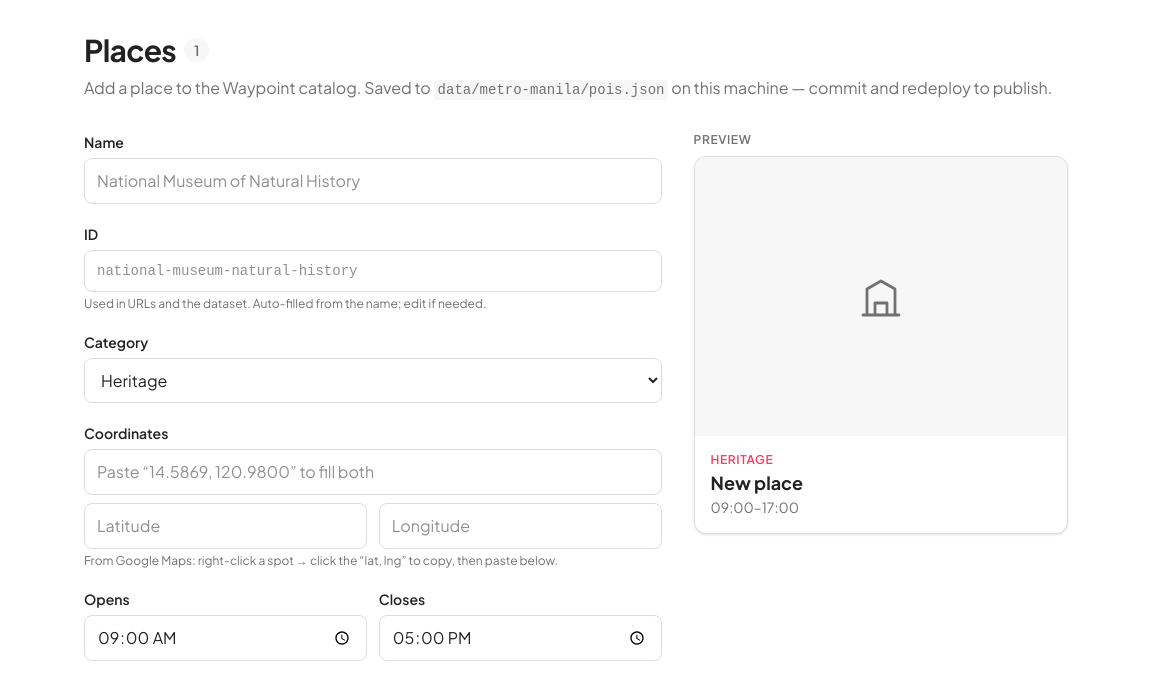
Scenario: AdminDashboard › submits the validated place, adds it to the table, and resets the form on success
Type "Rizal Park" into the field labelled "Name".
click(373, 181); type("Rizal Park")  # box [84,158,662,204]
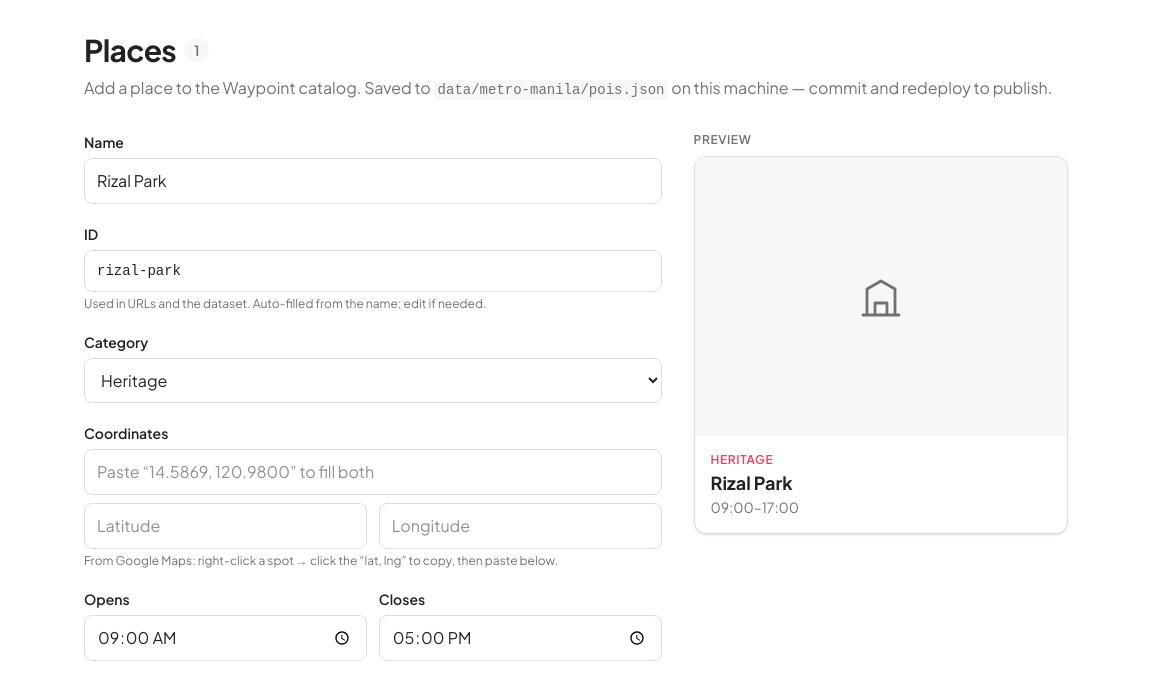
Type "14.5831" into the field labelled "Latitude".
click(225, 526); type("14.5831")  # box [84,503,367,549]
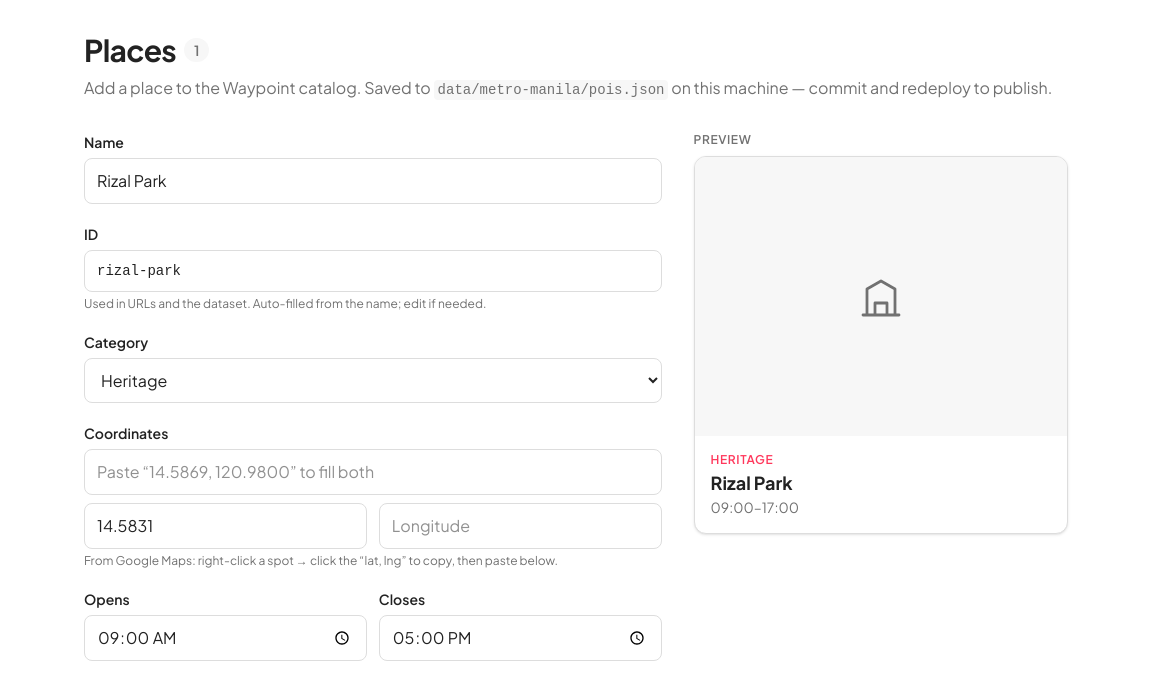
Type "120.9794" into the field labelled "Longitude".
click(520, 526); type("120.9794")  # box [379,503,662,549]
(page scrolled)
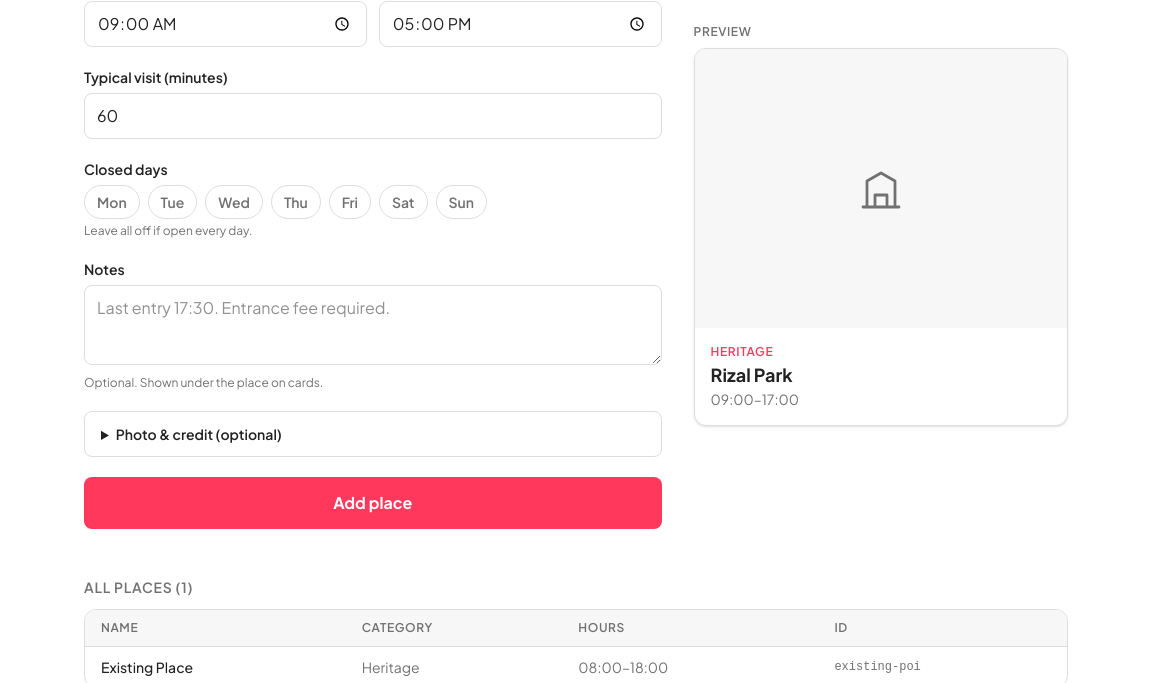
Click the button "Add place".
click(373, 503)  # box [84,477,662,529]
(page scrolled)
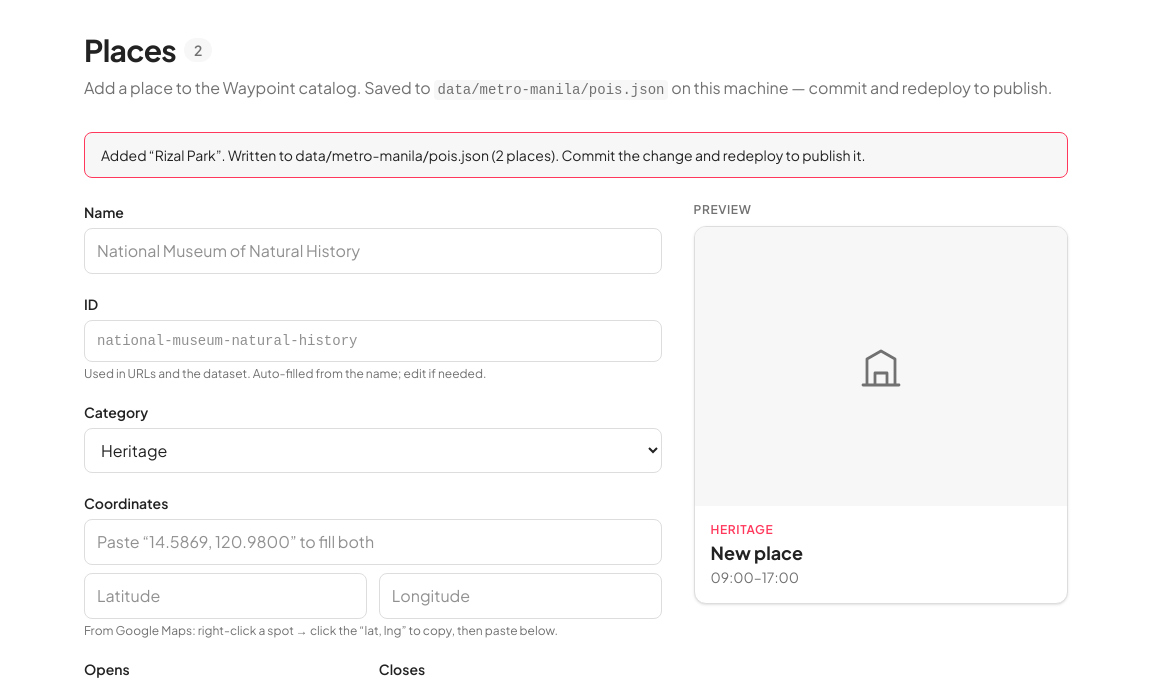
Expected: the message shows "Added .Rizal Park.", [101,146,866,164]
Expected: the field labelled "Name" is empty, [84,228,662,274]
